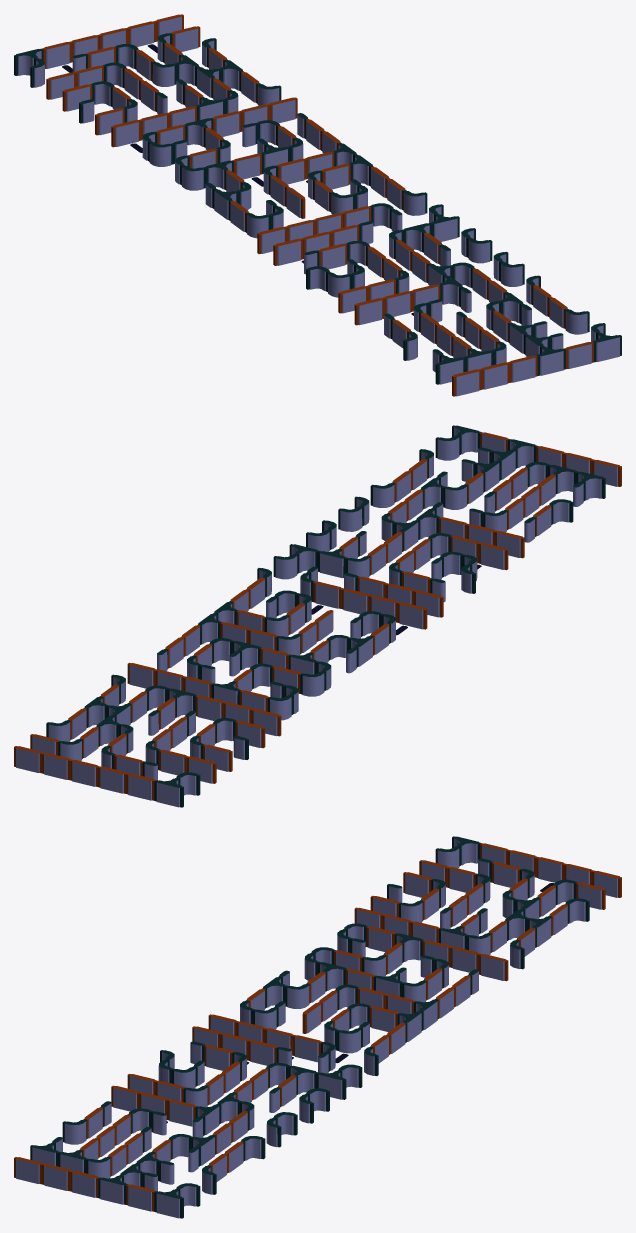
The model's file is W_M_maze_Top_InWall_L3.fbx.
The picture shows the model from 3 angles, top to bottom: view 1: azimuth 30°, elevation 25°; view 2: azimuth 150°, elevation 25°; view 3: azimuth 330°, elevation 25°; orthographic projection.
Parts seen in each view (by area): view 1: W_M_maze_Top_InWall_L3; view 2: W_M_maze_Top_InWall_L3; view 3: W_M_maze_Top_InWall_L3.
Boxes of the visible parts, <box> form: W_M_maze_Top_InWall_L3: <box>14,14,621,396</box>; W_M_maze_Top_InWall_L3: <box>14,425,621,807</box>; W_M_maze_Top_InWall_L3: <box>14,836,621,1218</box>.
Bounding box in the file's own units: 9 × 1 × 40.77.
